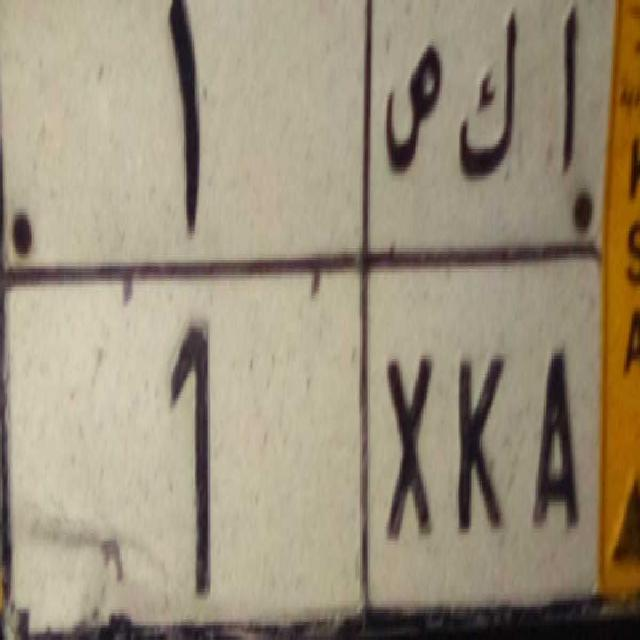license_plate: (0, 254, 604, 640)
